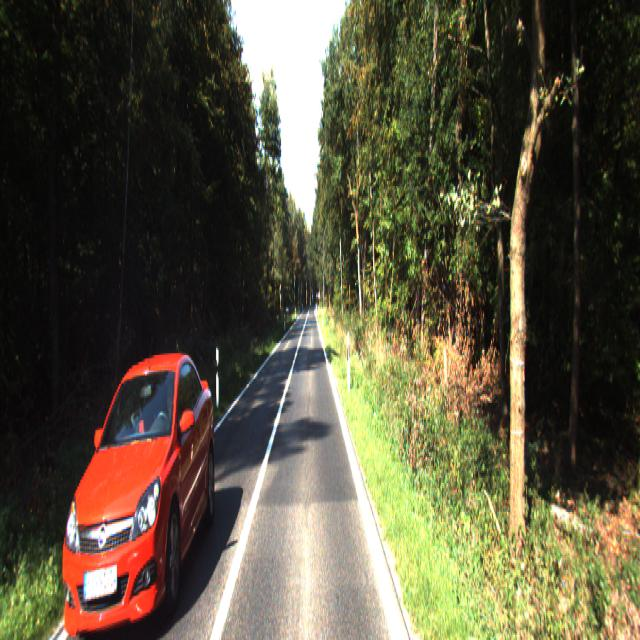Car: (56, 340, 222, 638)
